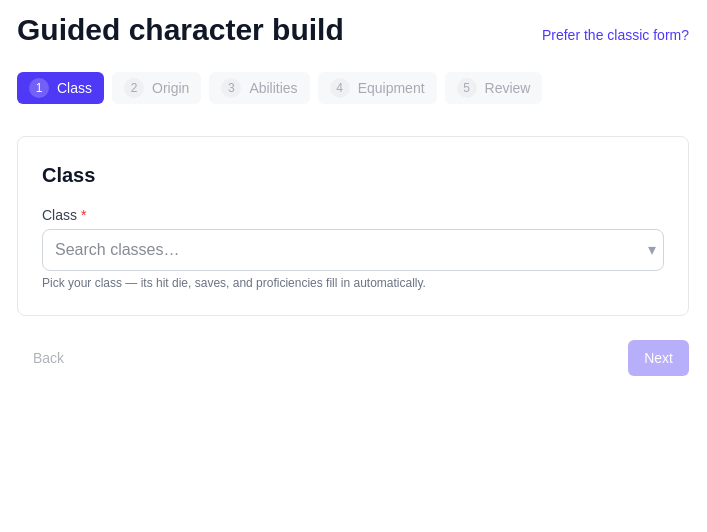
Test case: GuidedCharacterPage — wizard shell › navigates via the progress bar — jump back to a visited step, then forward to a reachable one
In the dropdown labelled "Class *": (353, 250) top-left (42, 229), bottom-right (664, 271), type "Rogue"
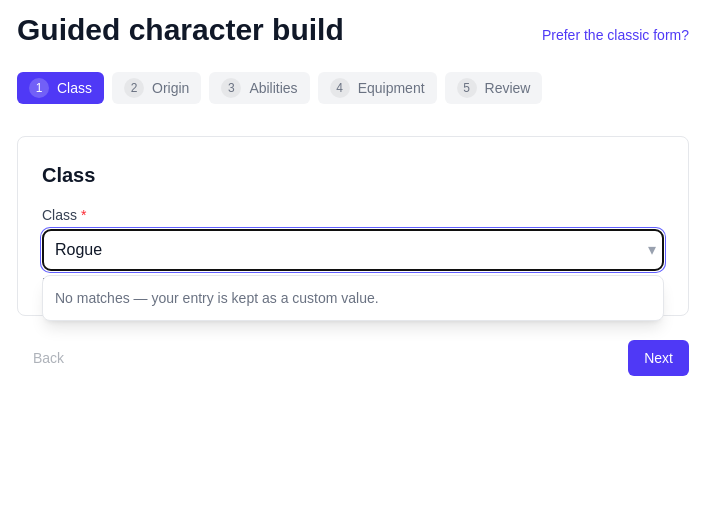
Check: the button "Next" is enabled
Click the button "Next": (659, 358) top-left (628, 340), bottom-right (689, 376)
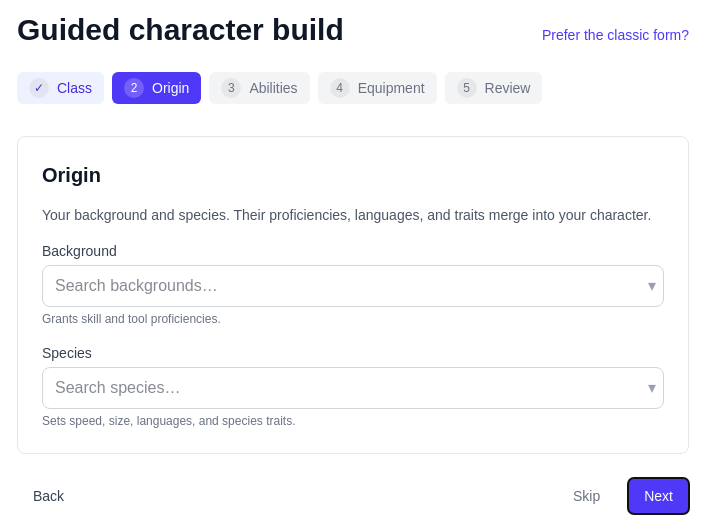
Check: the heading "Origin" is shown, box top-left (42, 164), bottom-right (101, 186)
Click the button "✓ Class": (60, 88) top-left (17, 72), bottom-right (104, 104)
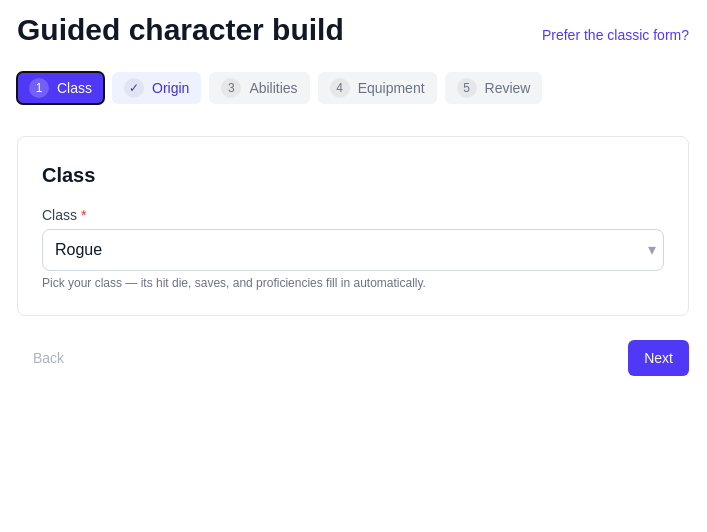
Check: the heading "Class" is shown, box top-left (42, 164), bottom-right (95, 186)
Check: the dropdown labelled "Class *" holds "Rogue", box top-left (42, 229), bottom-right (664, 271)
Click the button "5 Review": (494, 88) top-left (445, 72), bottom-right (542, 104)
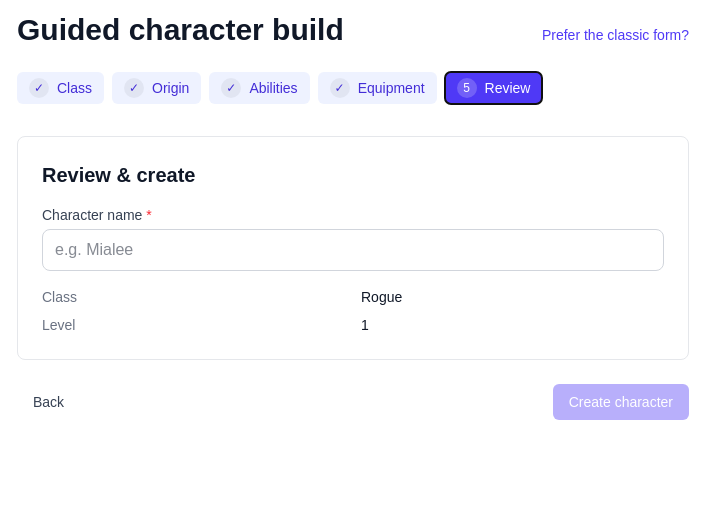
Check: the heading "Review & create" is shown, box top-left (42, 164), bottom-right (195, 186)
